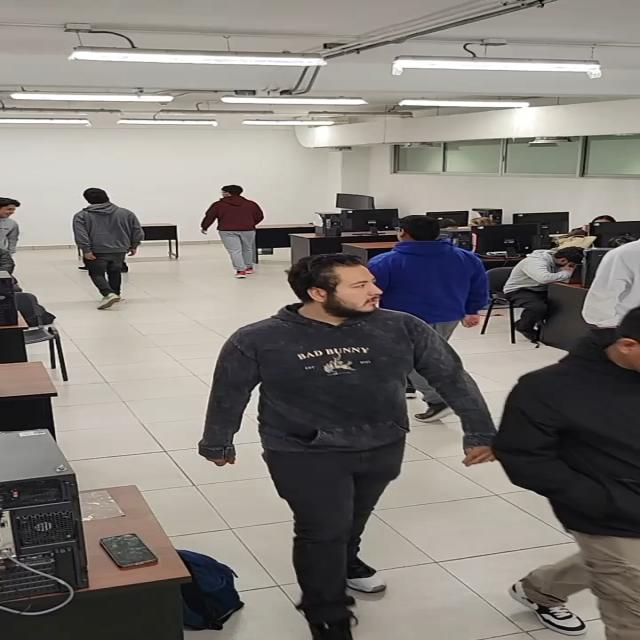Persona: (195, 253, 489, 640), (504, 300, 640, 640), (382, 213, 500, 418), (69, 184, 140, 312), (196, 182, 272, 279)
